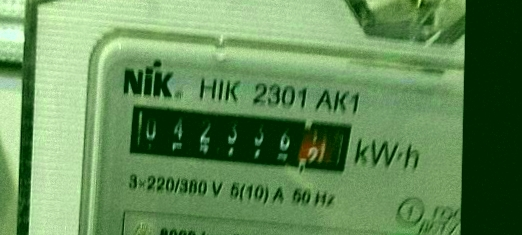0: (144, 113, 158, 142)
2: (196, 116, 215, 144)
3: (223, 117, 240, 146), (252, 119, 267, 147)
4: (170, 115, 187, 142)
6: (277, 125, 293, 152)
screen: (119, 96, 360, 182)
